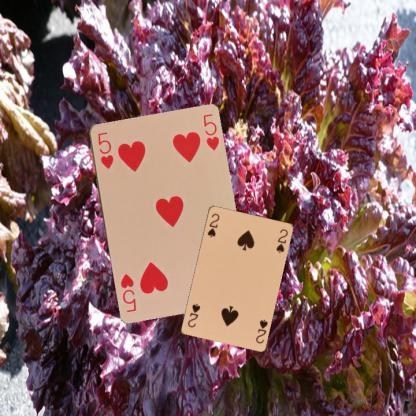2s: (204, 210, 221, 239), (253, 317, 269, 344)
5h: (95, 129, 114, 170)
